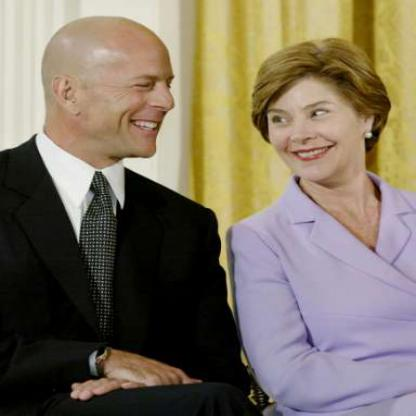face: (84, 22, 191, 159), (256, 47, 361, 182)
